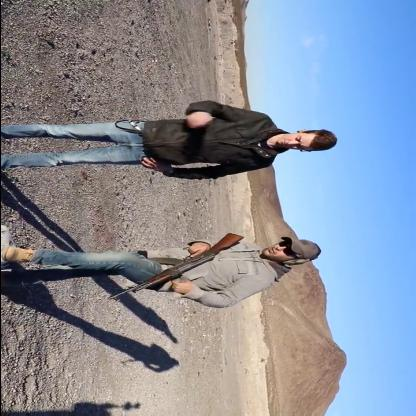long weapon: (102, 228, 252, 307)
